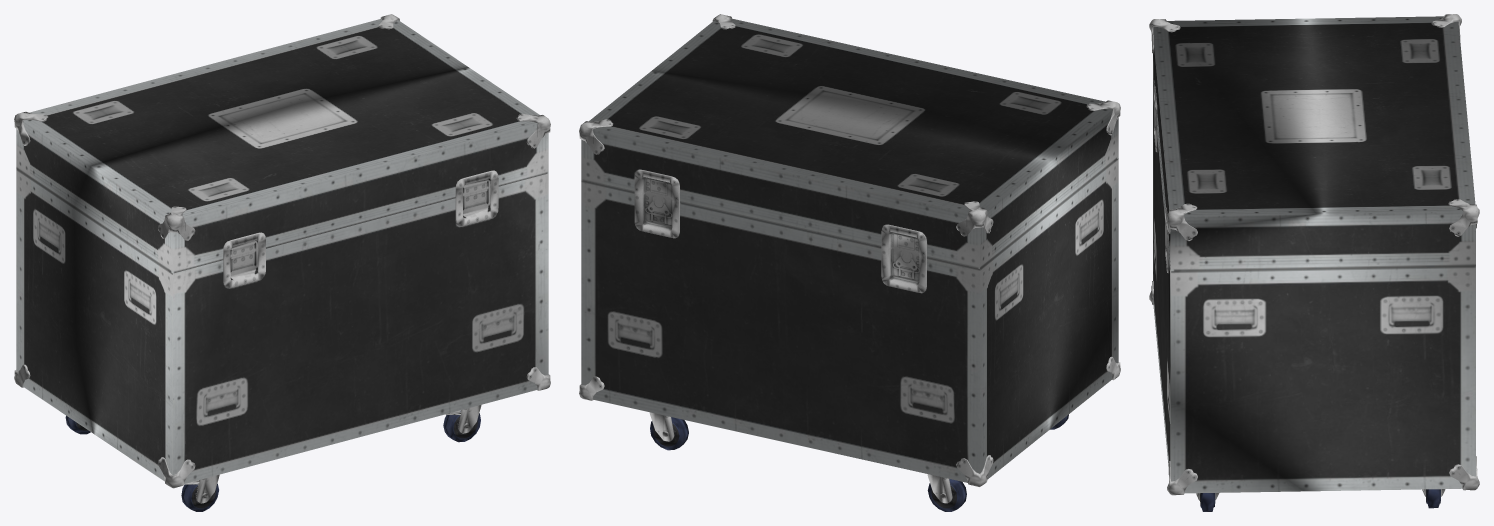
Rendered from trunk-v10.glb.
3 views of the same model, side by side, from view 1: azimuth 30°, elevation 25°; view 2: azimuth 150°, elevation 25°; view 3: azimuth 270°, elevation 25° (orthographic). The views are drawn at different scales.
Parts seen in each view (by area): view 1: Crate2; view 2: Crate2; view 3: Crate2.
Part boxes in pixels (box(x1,y1,x2,y2)): Crate2: box(14, 14, 550, 511); Crate2: box(579, 14, 1120, 511); Crate2: box(1149, 14, 1479, 511).
Size of the model in its own units: 1.2 by 0.9121 by 0.821.
Materials: 1 (1 with a texture image).
